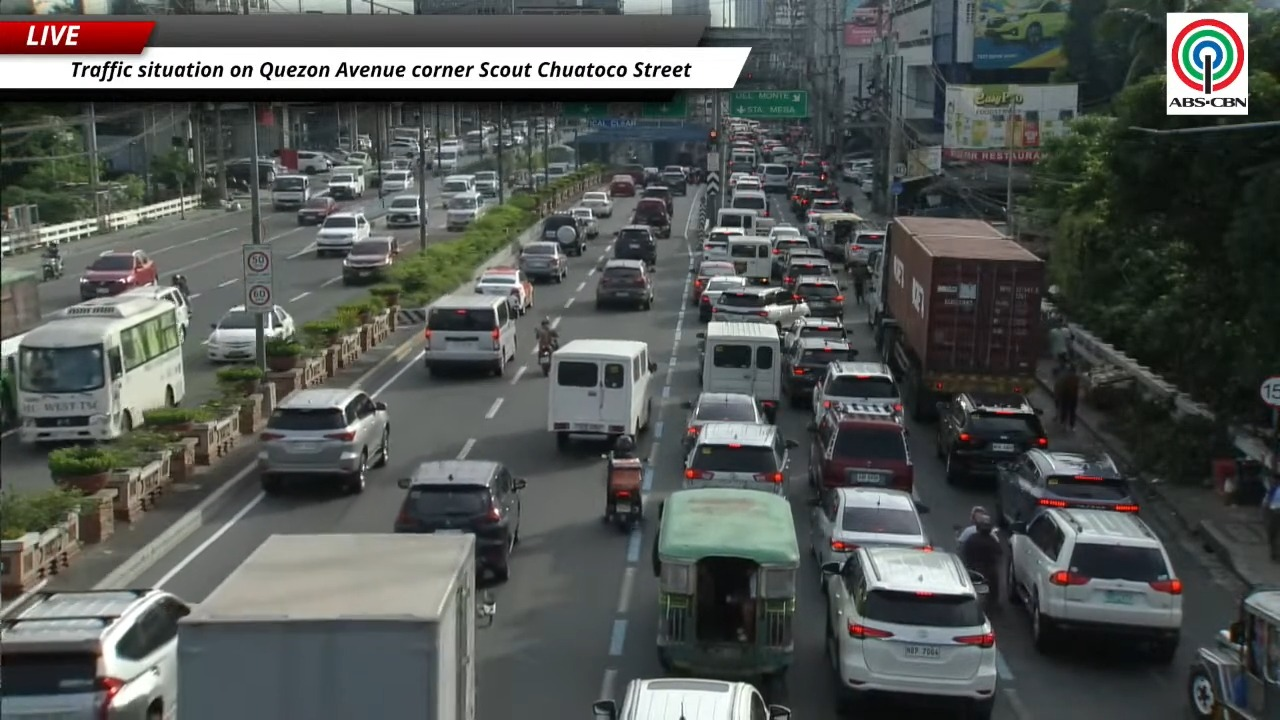bus: (16, 295, 185, 442)
car: (822, 546, 998, 719), (1007, 508, 1182, 663), (0, 589, 190, 719), (393, 459, 526, 581), (257, 387, 390, 494), (996, 449, 1138, 523), (937, 392, 1048, 482), (810, 487, 931, 568), (809, 404, 913, 491), (592, 678, 791, 719), (684, 422, 797, 494), (682, 392, 767, 453), (782, 336, 856, 406), (813, 361, 902, 419), (983, 0, 1067, 47), (712, 286, 808, 327), (122, 285, 191, 341), (79, 250, 156, 299), (205, 305, 257, 362), (595, 259, 653, 309), (342, 236, 400, 285), (475, 266, 533, 314), (315, 212, 370, 257), (698, 275, 746, 322), (772, 235, 823, 279), (792, 276, 844, 318), (782, 317, 847, 350), (690, 260, 736, 305), (518, 242, 568, 282), (541, 212, 585, 256), (782, 253, 834, 290), (775, 239, 825, 274), (614, 225, 656, 266), (630, 198, 671, 238), (844, 230, 885, 266), (805, 198, 841, 237), (702, 227, 744, 260), (297, 194, 339, 225), (328, 164, 363, 199), (386, 195, 422, 227), (641, 184, 672, 214), (579, 191, 612, 218), (570, 207, 598, 238), (296, 150, 332, 174), (791, 185, 815, 220), (768, 224, 803, 246), (382, 170, 414, 192), (475, 171, 501, 198), (661, 170, 687, 195), (609, 174, 637, 197), (788, 172, 818, 193), (733, 175, 763, 194), (622, 164, 644, 185), (346, 150, 372, 167), (726, 172, 750, 190), (641, 166, 660, 186), (662, 165, 687, 178), (859, 178, 873, 195)
motorcycle: (603, 454, 646, 530), (966, 559, 1000, 613), (537, 345, 554, 376), (42, 256, 63, 280)
truck: (177, 534, 476, 719), (872, 216, 1045, 420), (0, 268, 42, 428)
